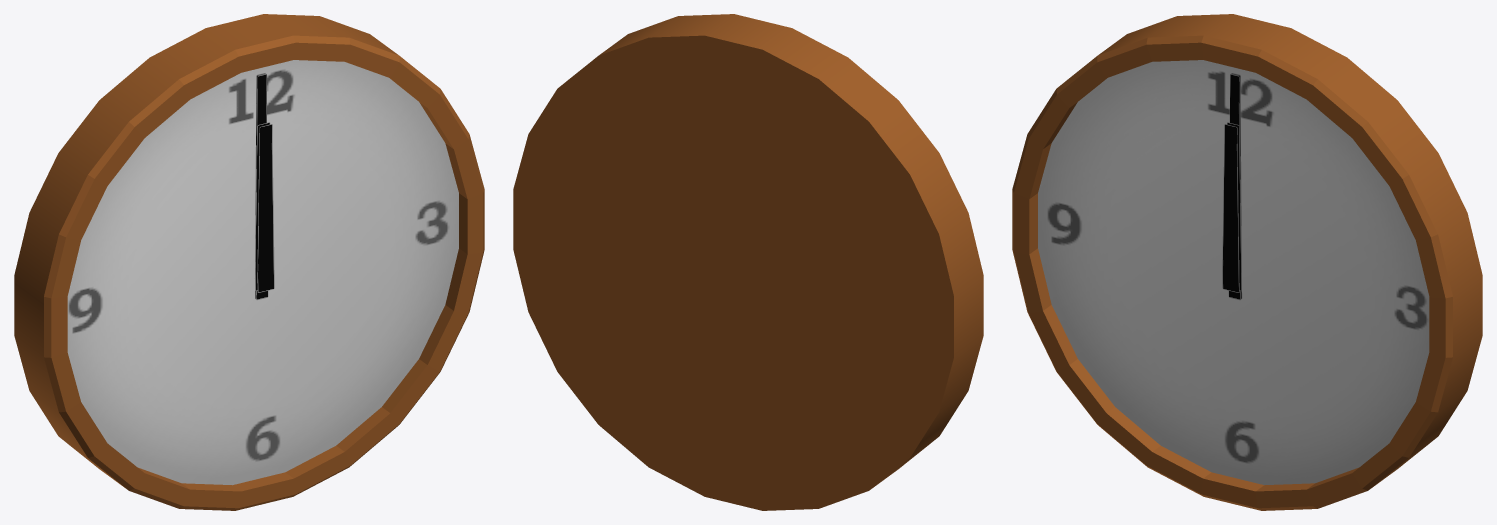
File: clock.fbx
3 views of the same model, side by side, from view 1: azimuth 30°, elevation 25°; view 2: azimuth 150°, elevation 25°; view 3: azimuth 330°, elevation 25° (orthographic).
Visible parts, largest first — view 1: dial, hourHand, longHand; view 2: dial; view 3: dial, hourHand, longHand.
Boxes of the visible parts, bbox=[...] form: dial: bbox=[14, 14, 484, 510]; hourHand: bbox=[255, 122, 274, 292]; longHand: bbox=[254, 73, 268, 300]; dial: bbox=[513, 14, 983, 510]; dial: bbox=[1012, 14, 1482, 510]; hourHand: bbox=[1222, 122, 1241, 292]; longHand: bbox=[1228, 73, 1242, 300].
Size of the model in its own units: 34.5 by 34.5 by 4.45.
Materials: 1 (1 with a texture image).
